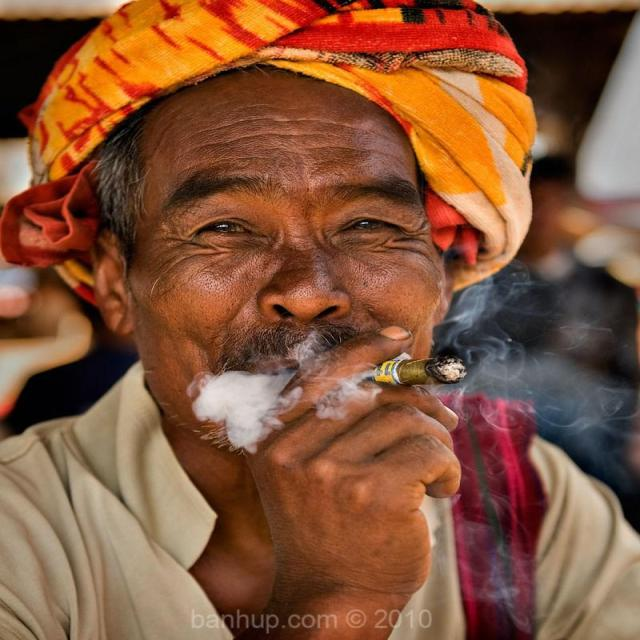cigarette: (318, 347, 485, 403)
